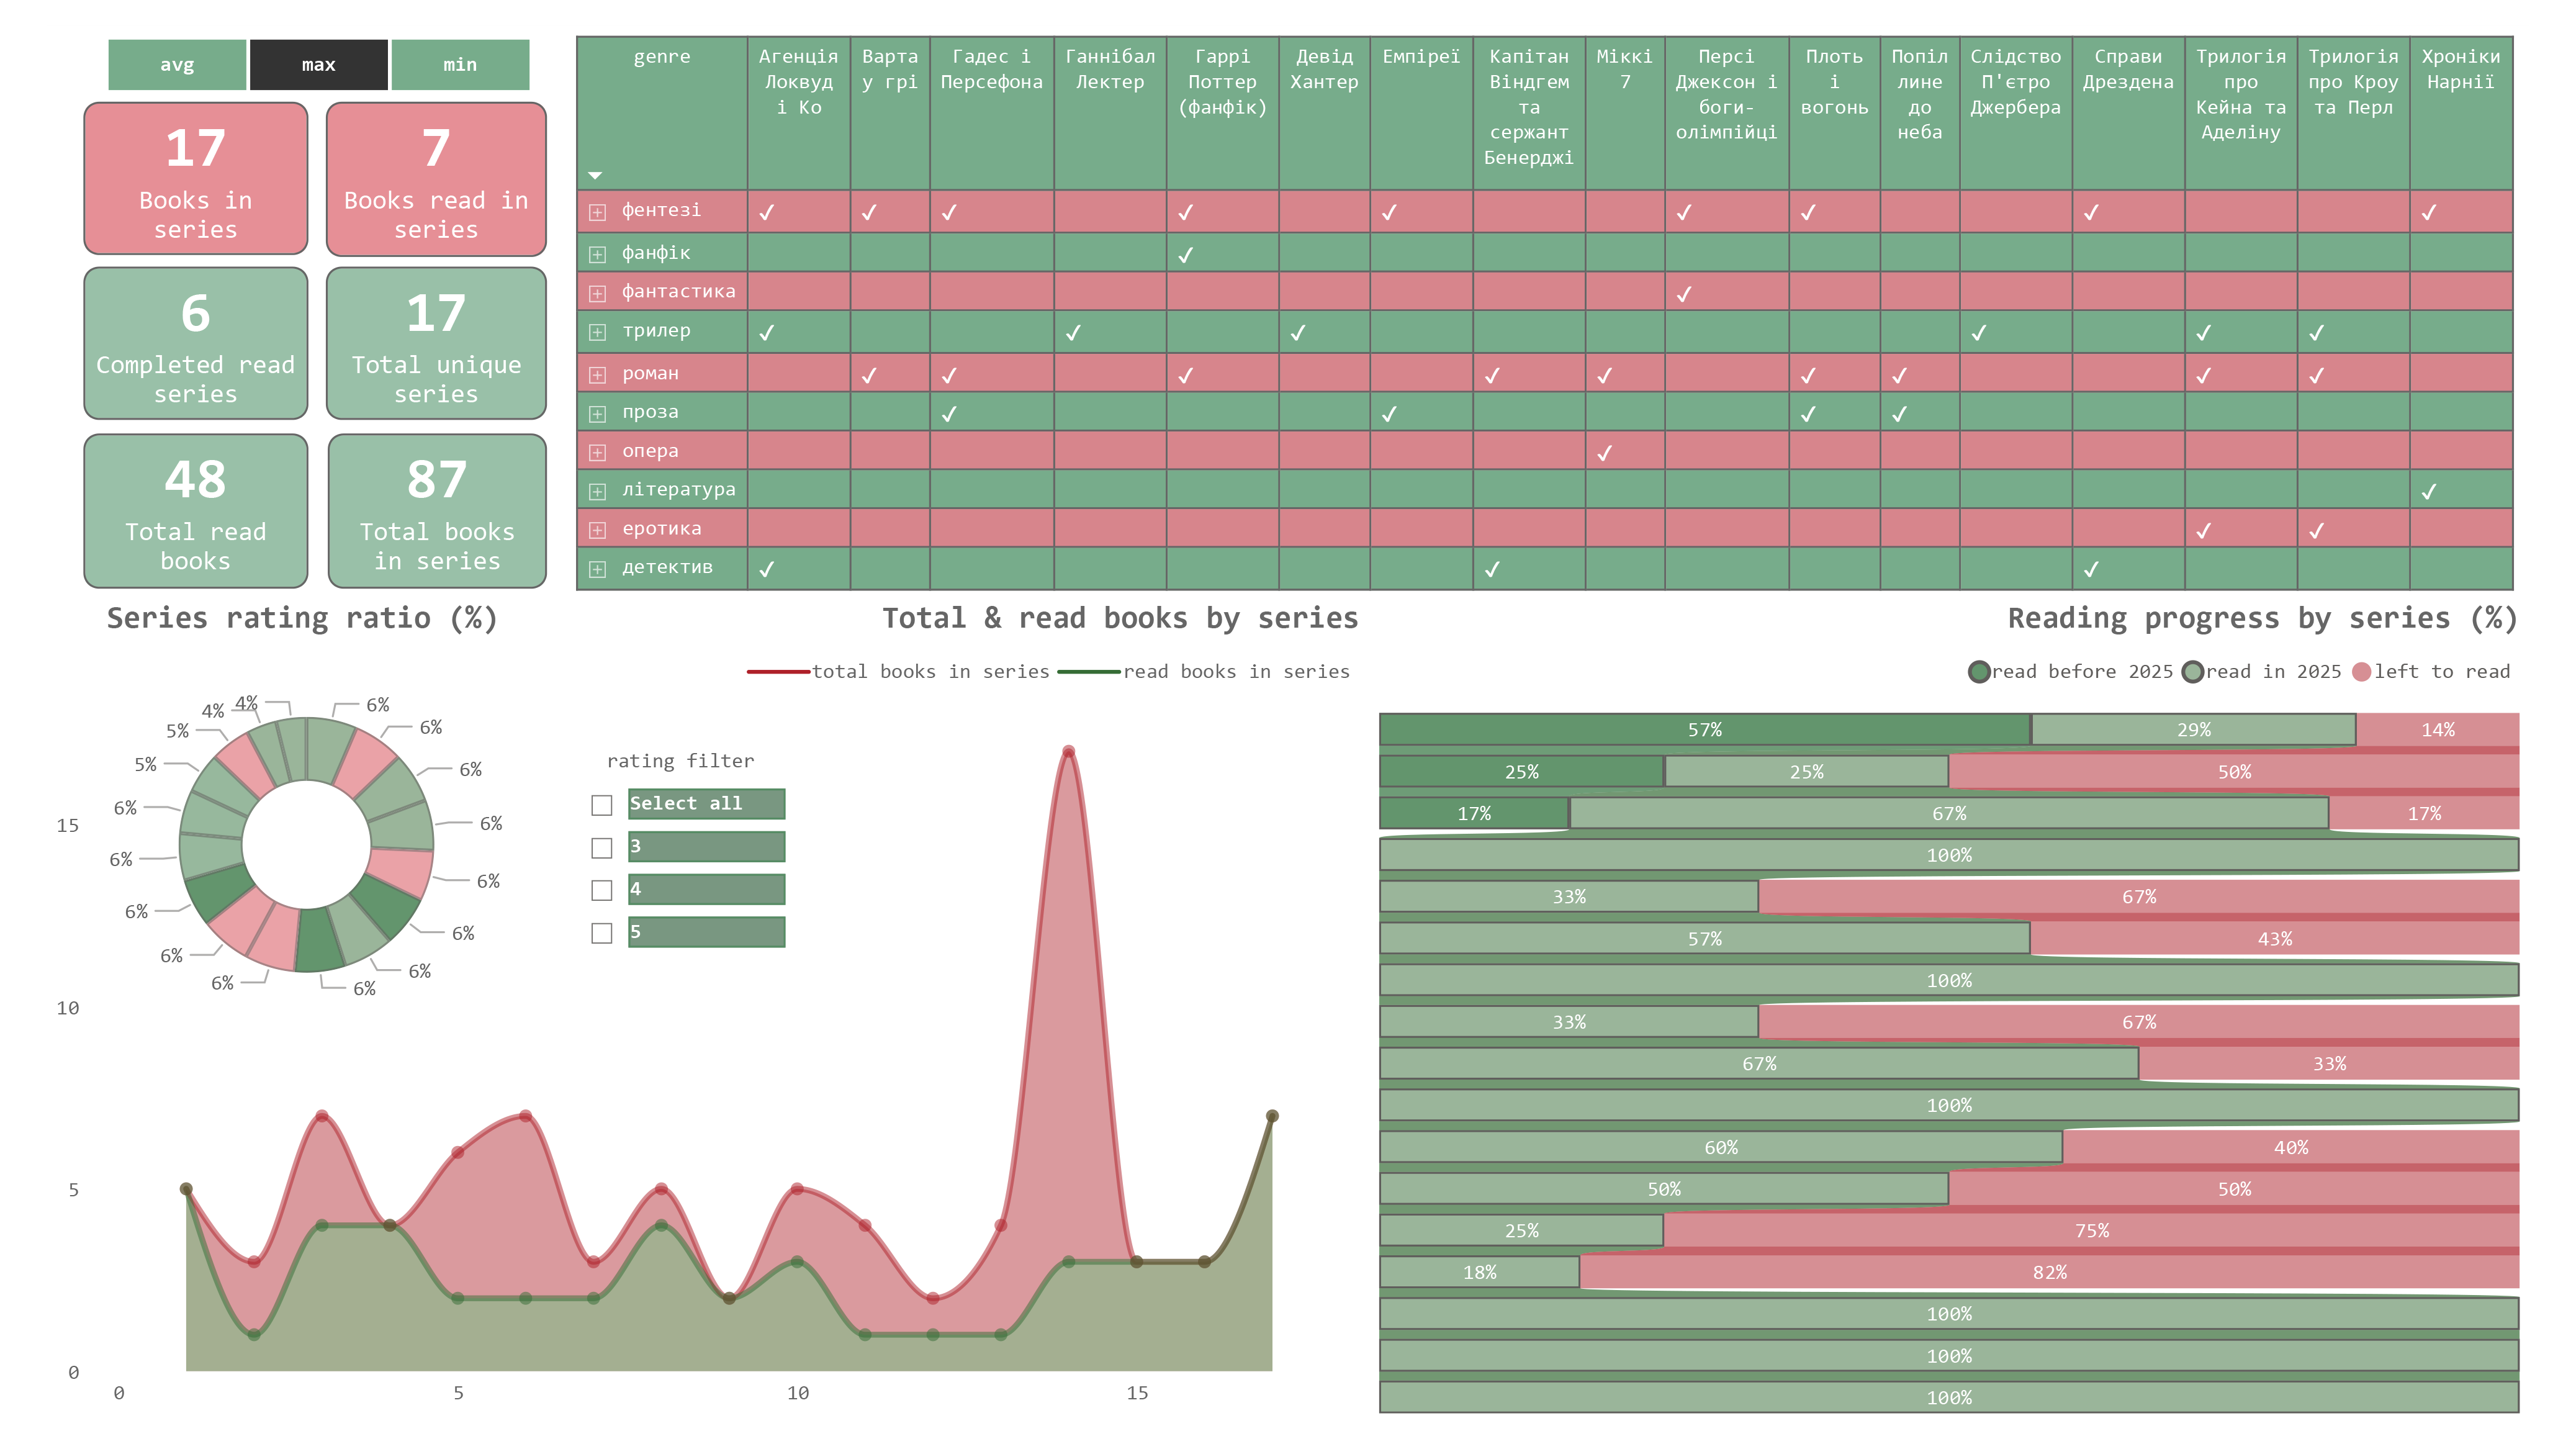

Layout of this report page (visuals, bound fields, positions):
{"tool":"powerbi","page":{"name":"series","canvas":[1280,720],"ordinal":1},"visuals":[{"type":"areaChart","title":"Total & read books by series","fields":{"Category":["public series.series_id"],"Y":["Sum(public series.total_books_in_series)","Sum(public series.books_read)"]},"box":[0,294.8,682.3,425],"z":0},{"type":"pivotTable","fields":{"Rows":["public genres (2).genre","public subgenres.subgenre"],"Columns":["public series.series_name"],"Values":["public series.Series Category"]},"box":[267.7,0,1012.5,296.9],"z":2000},{"type":"donutChart","title":"Series rating ratio (%)","fields":{"Category":["public series.series_name"],"Y":["Table7.Avg Series Rating"]},"box":[26,294.6,215.8,235.5],"z":3000},{"type":"slicer","title":"rating filter","fields":{"Values":["public books (2).Rating Group 1"]},"box":[268.1,372.2,118.1,112.5],"z":4000},{"type":"cardVisual","fields":{"Data":["Table7.Total Read Books"]},"box":[13.9,205.1,125.9,89.9],"z":5000},{"type":"slicer","fields":{"Values":["Value Type.Type"]},"box":[6.3,0,266.5,39.9],"z":6000},{"type":"cardVisual","fields":{"Data":["Table7.Completed Series"]},"box":[13.5,118.8,126,89.6],"z":7000},{"type":"cardVisual","fields":{"Data":["Table7.Total Books In Series"]},"box":[139.9,205.1,123.4,89.9],"z":8000},{"type":"cardVisual","fields":{"Data":["Table7.Total Series"]},"box":[138.6,119,124.7,89.2],"z":9000},{"type":"cardVisual","fields":{"Data":["Table7.Books in Series KPI main"]},"box":[13.9,33.5,125.9,89.9],"z":10000},{"type":"cardVisual","fields":{"Data":["Table7.Books Read in Series KPI"]},"box":[138.6,33.5,124.7,90.5],"z":11000},{"type":"hundredPercentStackedBarChart","title":"Reading progress by series (%)","fields":{"Y":["public series.PercentBefore2025","public series.Percent2025","public series.PercentLeft"],"Category":["public series.series_name"]},"box":[682.3,294.8,597.9,425],"z":12000}]}

Visuals, with their boxes in screenshot pixels (x1, y1, x2, y2), scaled from the page's 1280x720 canvas onto the 2576x1449 screenshot:
"Total & read books by series" areaChart: box(0, 594, 1373, 1448)
pivotTable - public genres (2).genre x public subgenres.subgenre: box(539, 0, 2575, 597)
"Series rating ratio (%)" donutChart: box(52, 593, 487, 1067)
"rating filter" slicer: box(539, 749, 777, 975)
cardVisual - Table7.Total Read Books: box(28, 413, 281, 594)
slicer - Value Type.Type: box(12, 0, 549, 80)
cardVisual - Table7.Completed Series: box(27, 239, 281, 420)
cardVisual - Table7.Total Books In Series: box(282, 413, 530, 594)
cardVisual - Table7.Total Series: box(279, 240, 530, 419)
cardVisual - Table7.Books in Series KPI main: box(28, 68, 281, 248)
cardVisual - Table7.Books Read in Series KPI: box(279, 68, 530, 250)
"Reading progress by series (%)" hundredPercentStackedBarChart: box(1373, 594, 2575, 1448)
